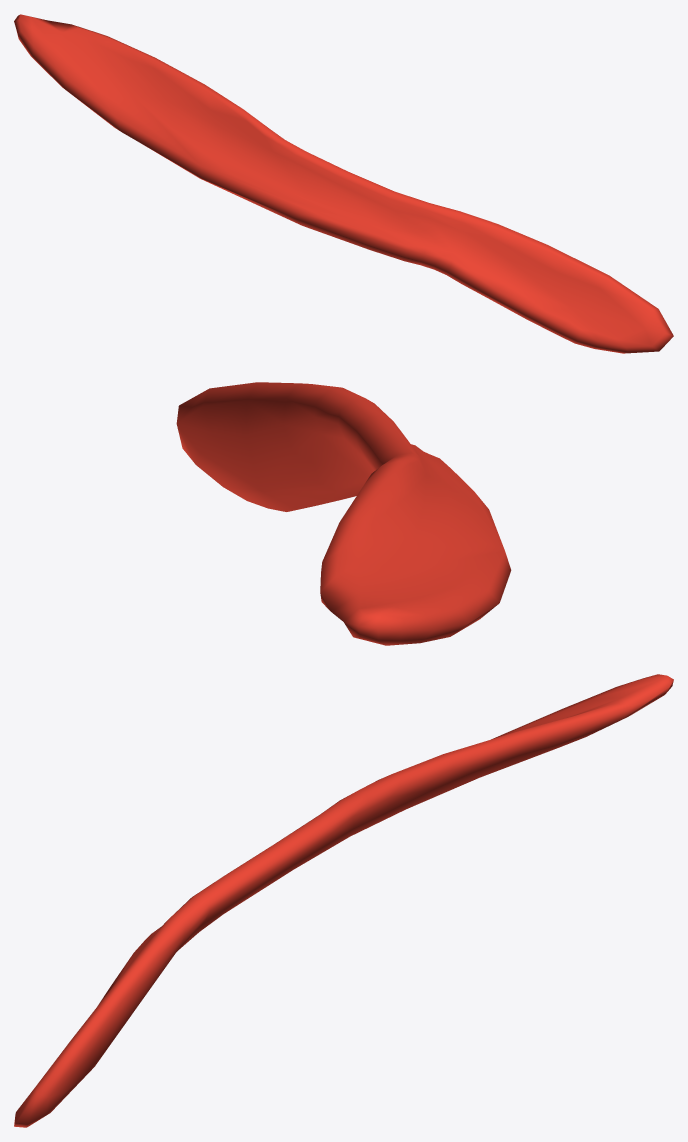
Rendered from Thyrohyoid_hyoid_bone_right.glb.
3 renders of one model, top to bottom at view 1: azimuth 30°, elevation 25°; view 2: azimuth 150°, elevation 25°; view 3: azimuth 270°, elevation 25°, orthographic. The views are drawn at different scales.
Visible parts, largest first — view 1: Thyrohyoid_muscle_on_hyoid_bone.r_Generated_Mesh_From_X3D.76; view 2: Thyrohyoid_muscle_on_hyoid_bone.r_Generated_Mesh_From_X3D.76; view 3: Thyrohyoid_muscle_on_hyoid_bone.r_Generated_Mesh_From_X3D.76.
Boxes of the visible parts, bbox=[...] form: Thyrohyoid_muscle_on_hyoid_bone.r_Generated_Mesh_From_X3D.76: bbox=[14, 14, 673, 353]; Thyrohyoid_muscle_on_hyoid_bone.r_Generated_Mesh_From_X3D.76: bbox=[176, 382, 511, 645]; Thyrohyoid_muscle_on_hyoid_bone.r_Generated_Mesh_From_X3D.76: bbox=[14, 674, 673, 1127].
Bounding box in the file's own units: 0.00978 × 0.00537 × 0.0126.
